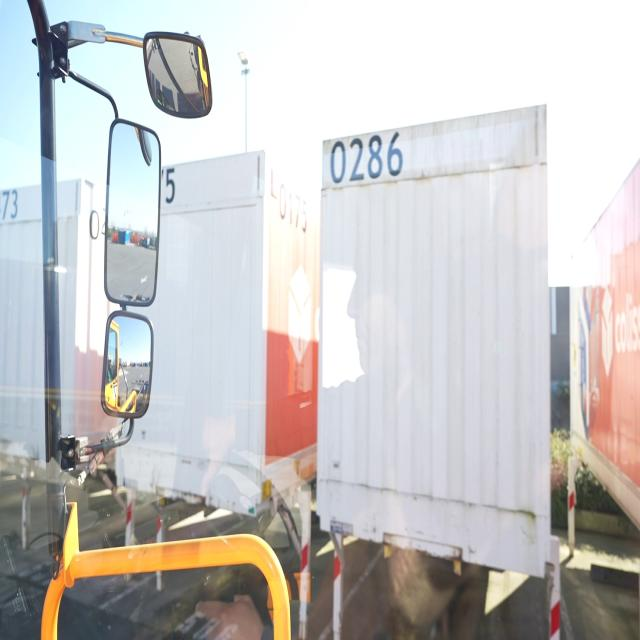Code: (328, 129, 414, 188), (273, 172, 313, 243)
